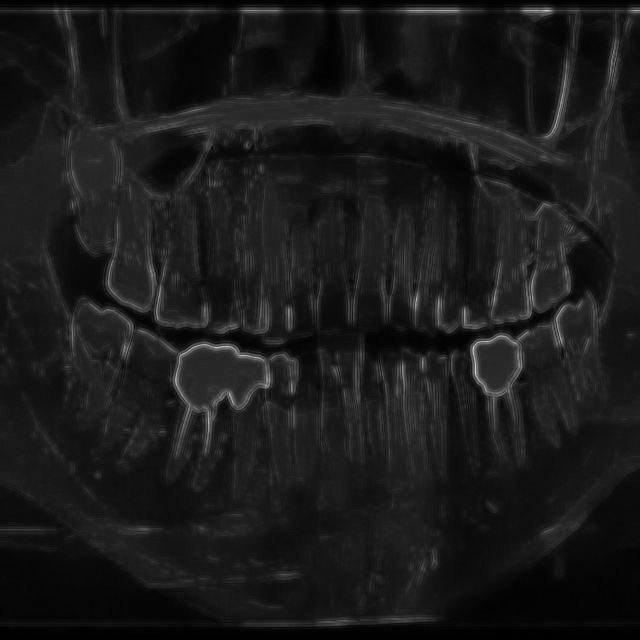Class 1- complete endodontic treatment: (162, 387, 224, 507), (475, 371, 543, 479)
cavity: (226, 392, 274, 514)
